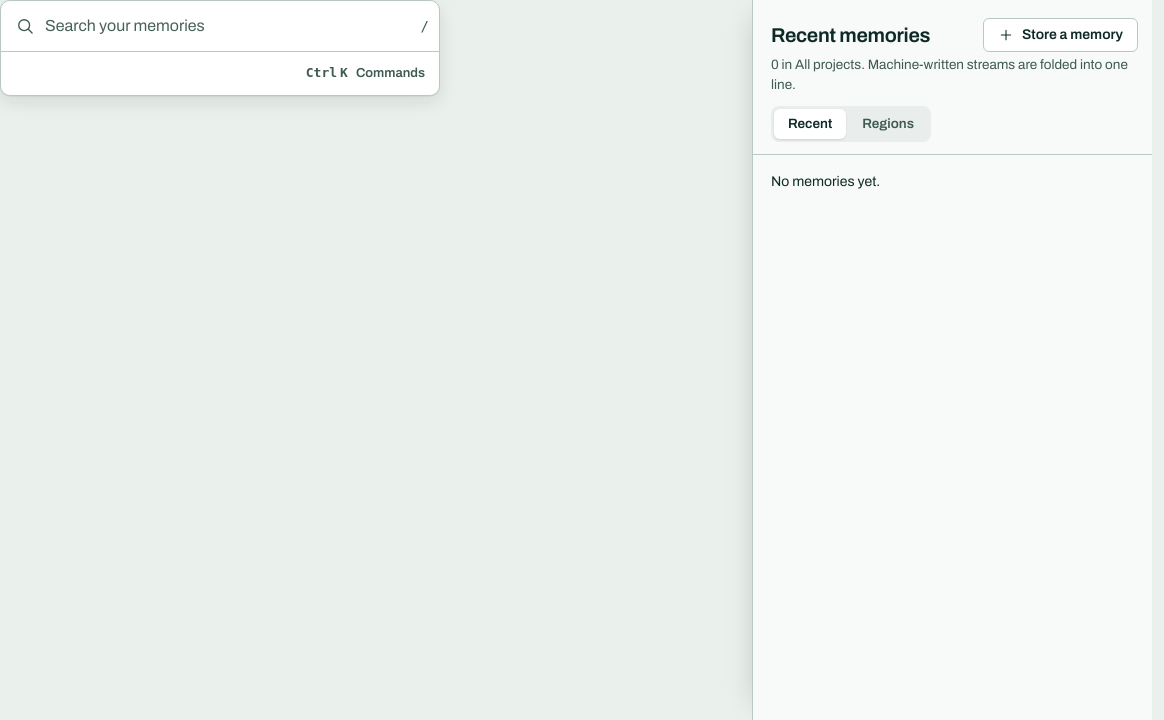
Test: SearchBar with the sheet › searches by itself after a pause in typing, and Escape goes back to Recent
In the field named "Search memories": (228, 26) [45,14,411,38], type "sync"
Wait 300 ms
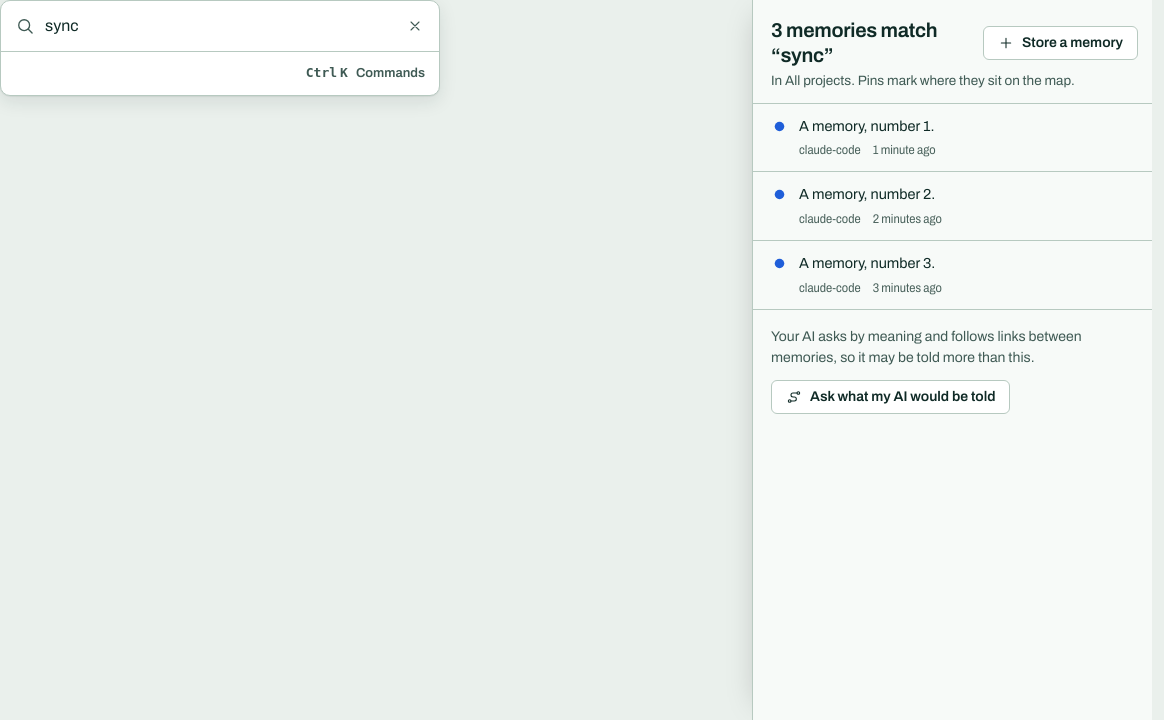
Now the heading "3 memories match “sync”" is shown, box [771,19,937,66]
Press Escape in the field named "Search memories", box [45,14,391,38]
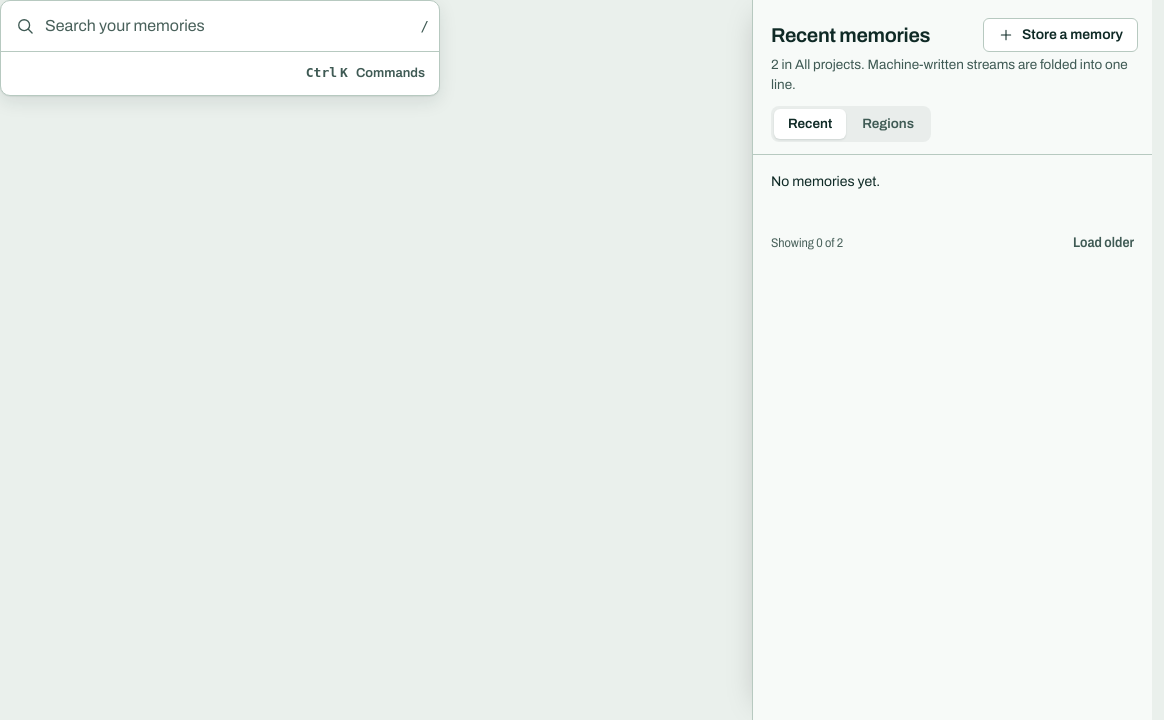
Now the heading "Recent memories" is shown, box [771,24,930,46]
Now the field named "Search memories" is empty, box [45,14,411,38]
